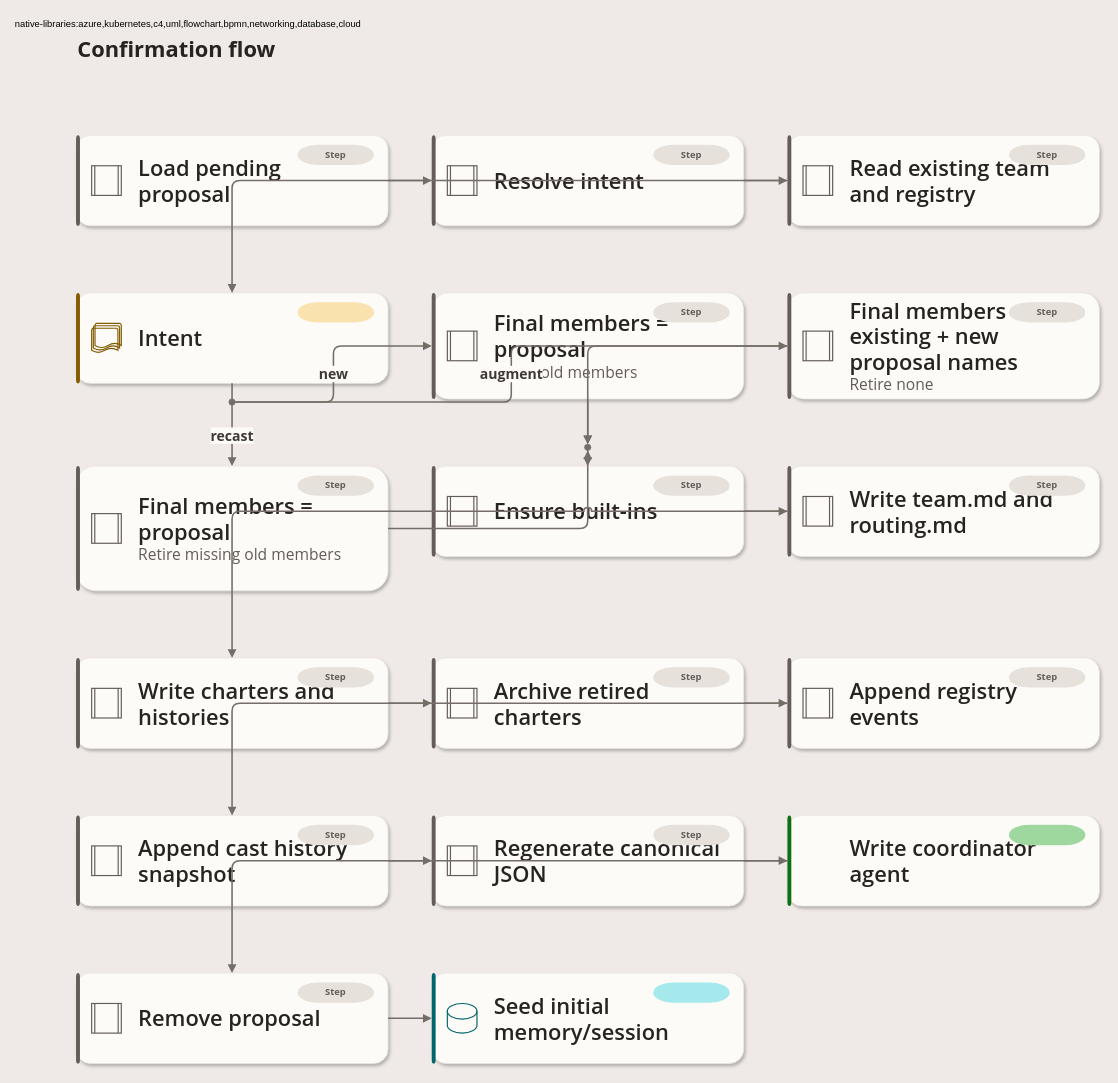
The diagram is 1118 pixels wide and 1083 high, and some of its shapes have lost their labels. The shapes that lost their labels are listed below. From the top down, each one's centre as x and y in pixels, then its label:
At pixel 335 312: "Decision".
At pixel 1047 834: "Runtime".
At pixel 691 992: "Data".
